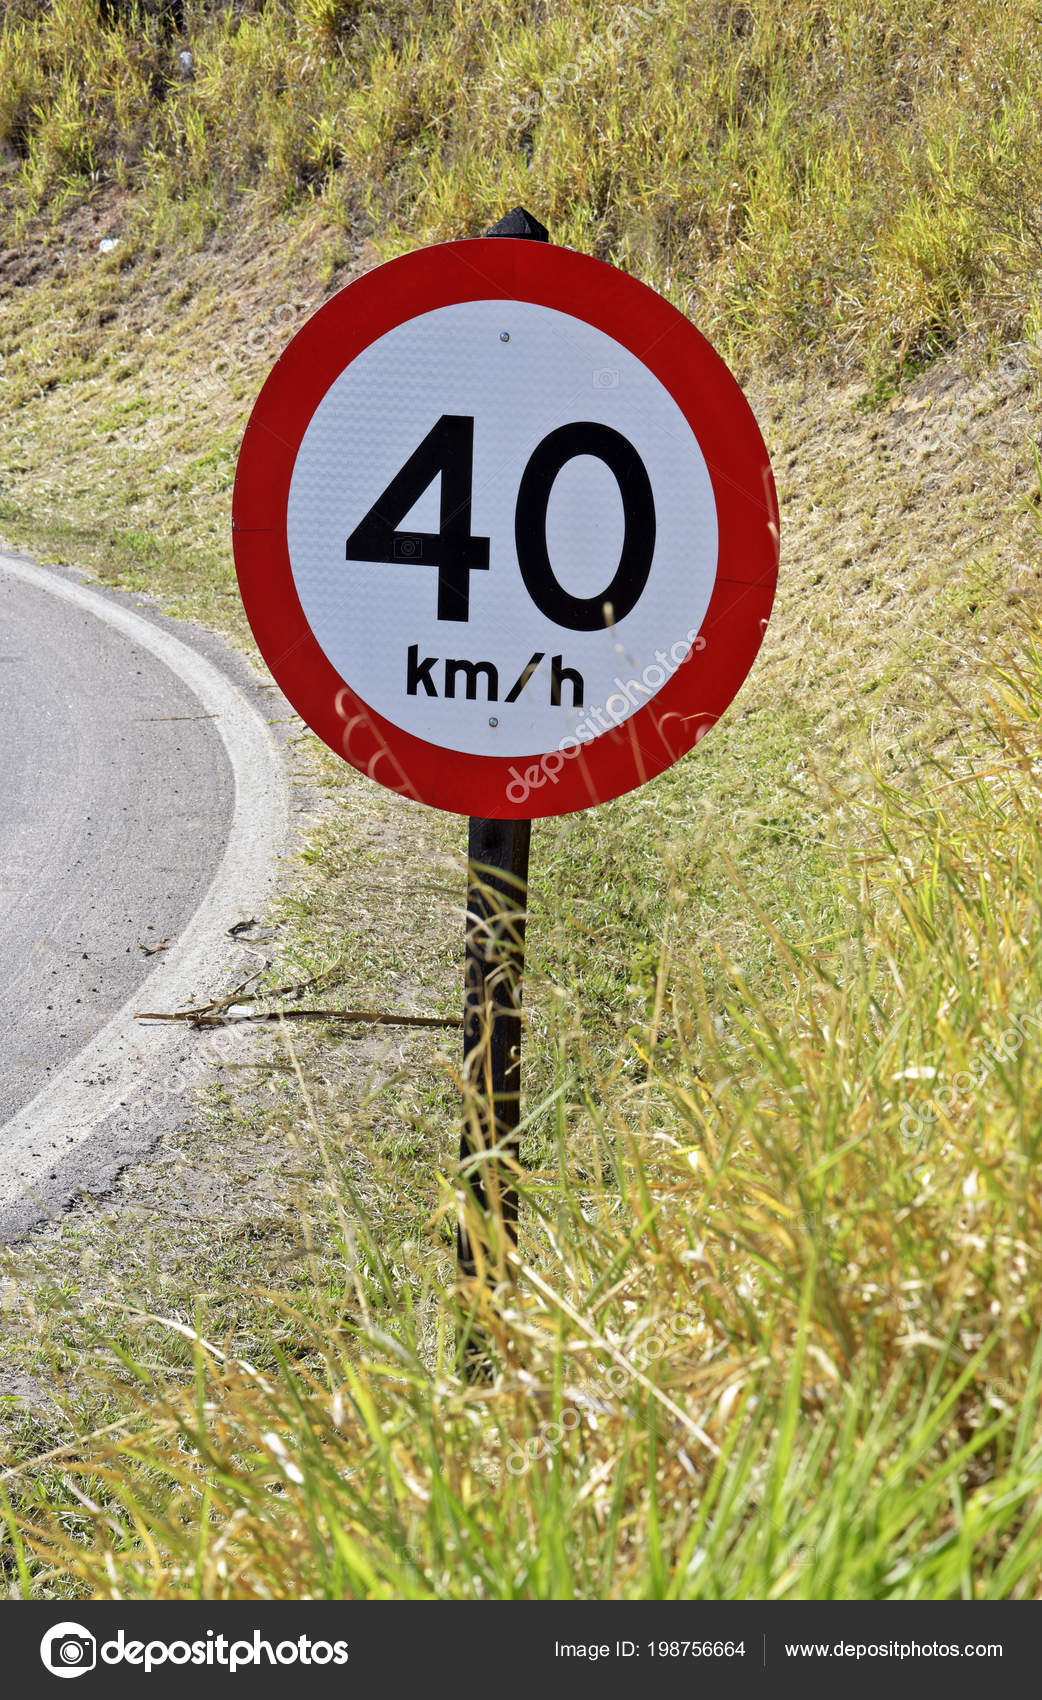40 Km/hr: (232, 236, 778, 821)
